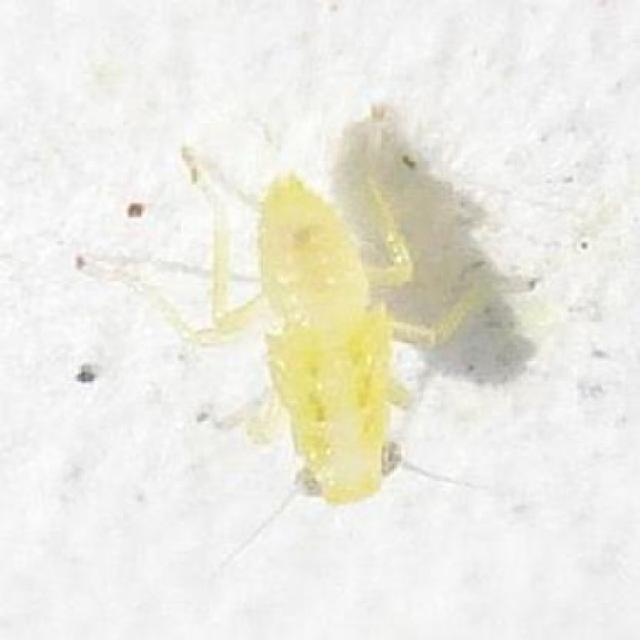green-leafhopper: (239, 148, 426, 509)
